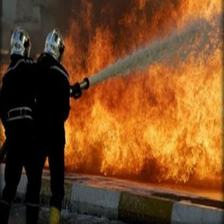fire: (69, 11, 224, 178)
